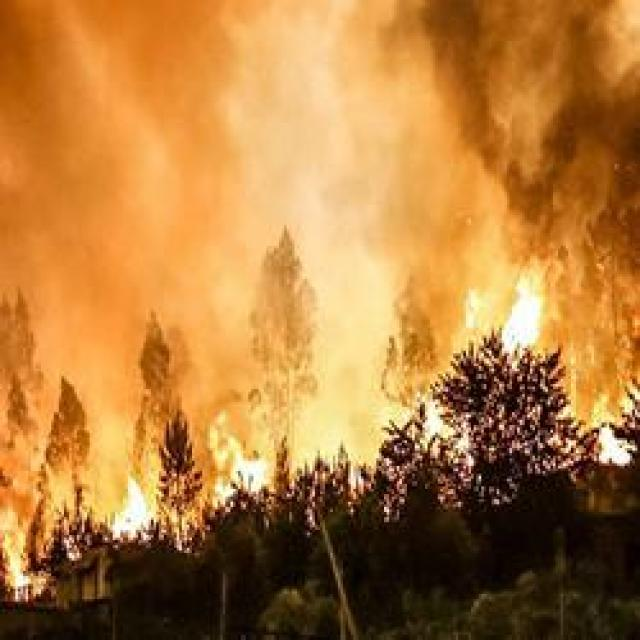fire: (461, 266, 640, 480), (372, 357, 472, 488), (0, 473, 74, 603), (208, 421, 280, 526), (107, 460, 172, 564)
